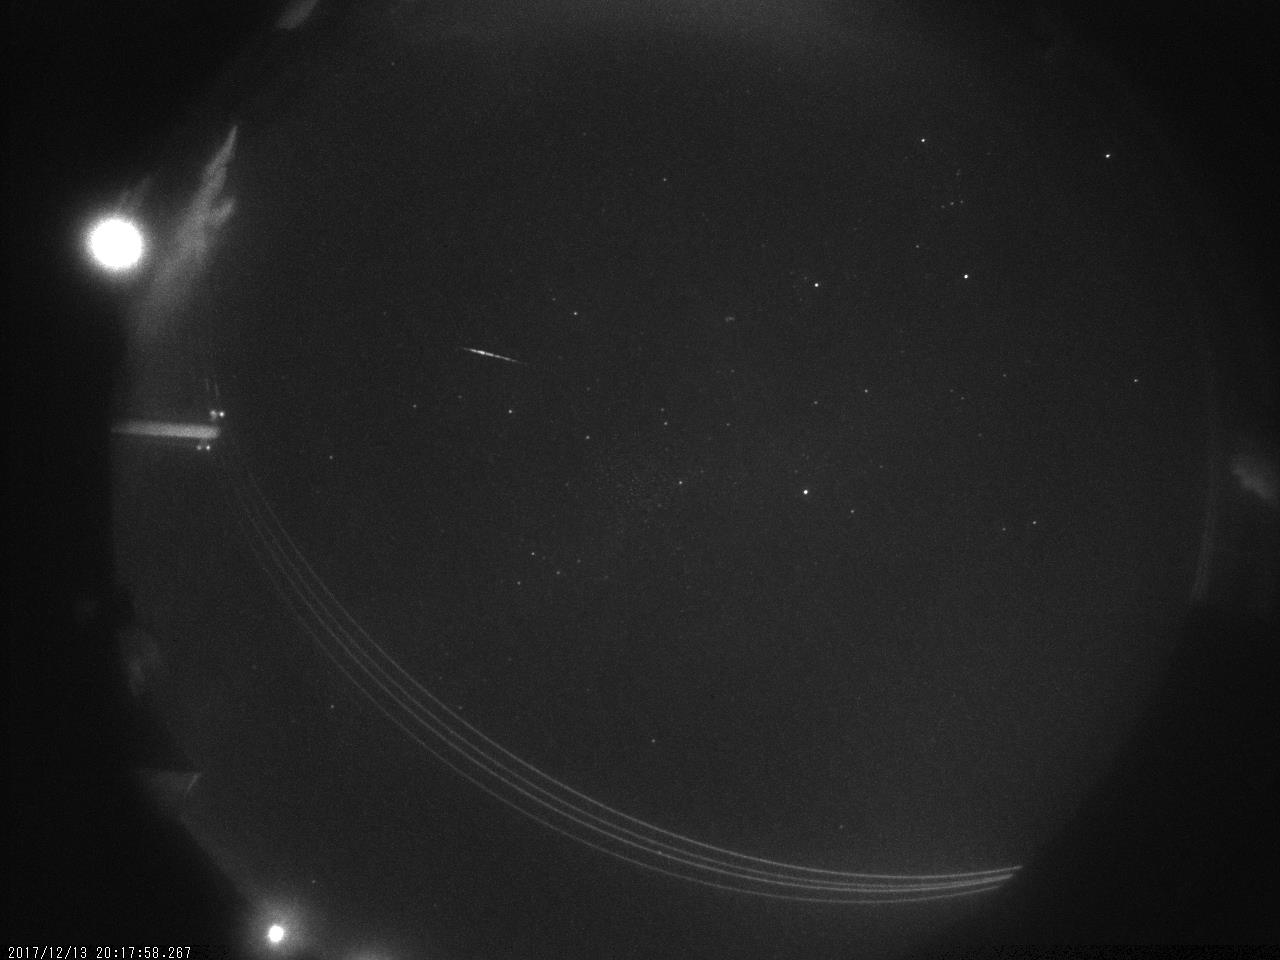meteor: (449, 327, 539, 385)
